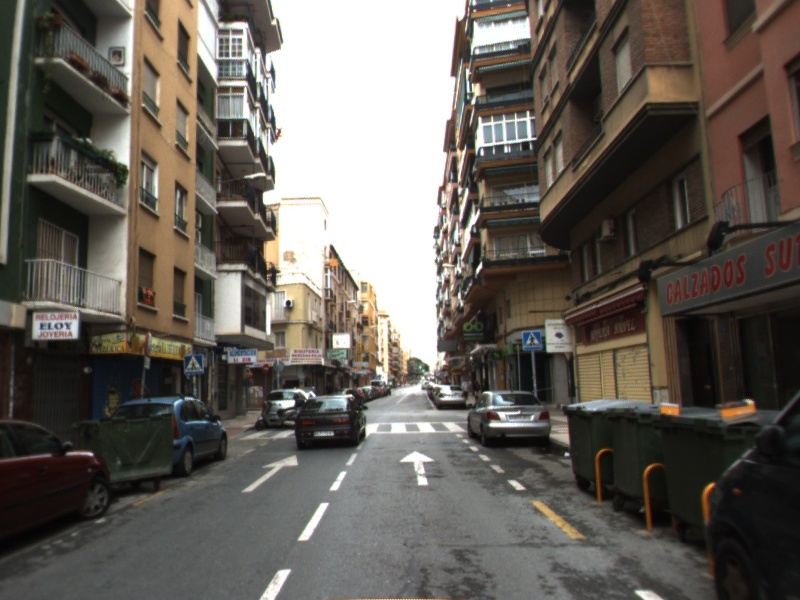STRAIGHT: (239, 453, 301, 495), (398, 449, 438, 487)
